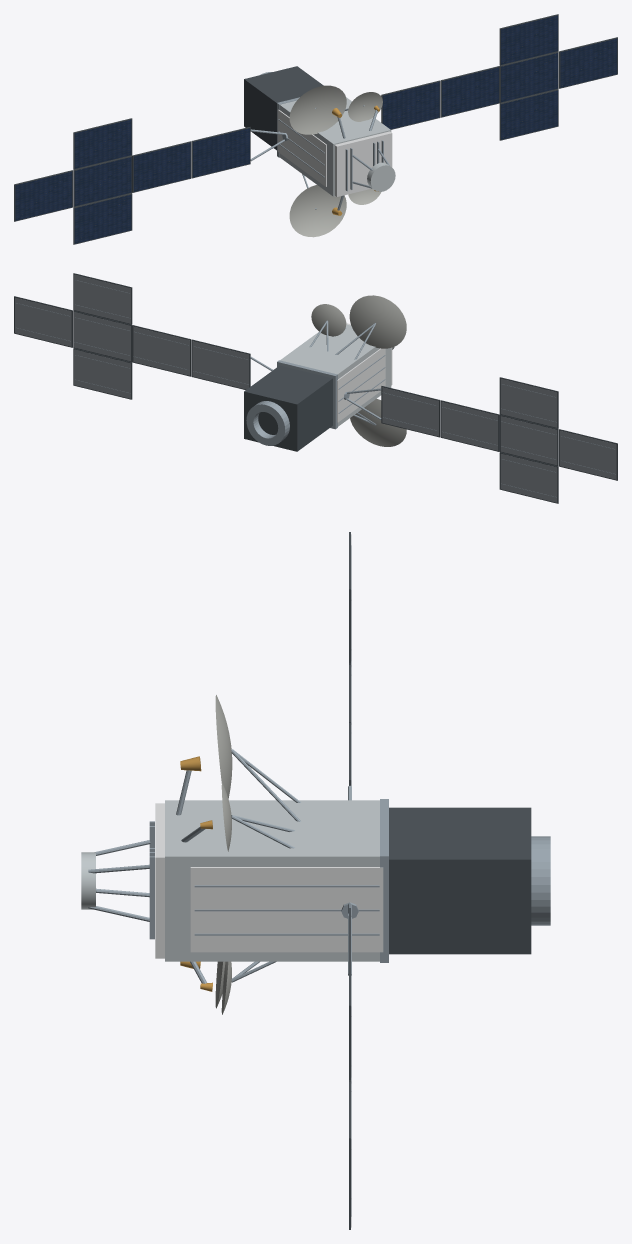
Rendered from ref-ls-1300s-41581.glb.
The picture shows the model from 3 angles, top to bottom: view 1: azimuth 30°, elevation 25°; view 2: azimuth 150°, elevation 25°; view 3: azimuth 270°, elevation 25°; orthographic projection. The views are drawn at different scales.
Visible parts, largest first — view 1: Solar cell panel (×12), Communications reflector (×4), Service module, Earth-facing deck, Payload module, Radiator face, Solar panel frame (×4), Antenna tower platform; view 2: Rear array substrate (×12), Service module, Communications reflector (×3), Payload module, Solar panel frame (×6), Radiator face, Launch adapter ring, Module interface; view 3: Service module, Payload module, Radiator face, Launch adapter ring, Earth-facing deck, Module interface, Communications reflector.
Part boxes in pixels (x1=…): Solar cell panel (×12): x1=15, y1=15, x2=617, y2=243; Communications reflector (×4): x1=289, y1=85, x2=382, y2=237; Service module: x1=244, y1=66, x2=323, y2=150; Earth-facing deck: x1=334, y1=131, x2=392, y2=196; Payload module: x1=279, y1=97, x2=391, y2=196; Radiator face: x1=277, y1=109, x2=326, y2=186; Solar panel frame (×4): x1=73, y1=118, x2=191, y2=244; Antenna tower platform: x1=367, y1=162, x2=395, y2=191; Rear array substrate (×12): x1=15, y1=274, x2=616, y2=502; Service module: x1=244, y1=365, x2=332, y2=451; Communications reflector (×3): x1=311, y1=295, x2=406, y2=446; Payload module: x1=280, y1=324, x2=391, y2=426; Solar panel frame (×6): x1=132, y1=325, x2=558, y2=503; Radiator face: x1=337, y1=348, x2=385, y2=422; Launch adapter ring: x1=246, y1=401, x2=289, y2=445; Module interface: x1=277, y1=360, x2=337, y2=429; Service module: x1=389, y1=807, x2=531, y2=954; Payload module: x1=165, y1=800, x2=379, y2=961; Radiator face: x1=190, y1=867, x2=383, y2=952; Launch adapter ring: x1=531, y1=836, x2=550, y2=925; Earth-facing deck: x1=155, y1=803, x2=164, y2=958; Module interface: x1=380, y1=799, x2=388, y2=962; Communications reflector: x1=215, y1=695, x2=232, y2=798.
Bounding box in the file's own units: 32.37 × 7.68 × 10.9.
8 materials, 1 textured.
